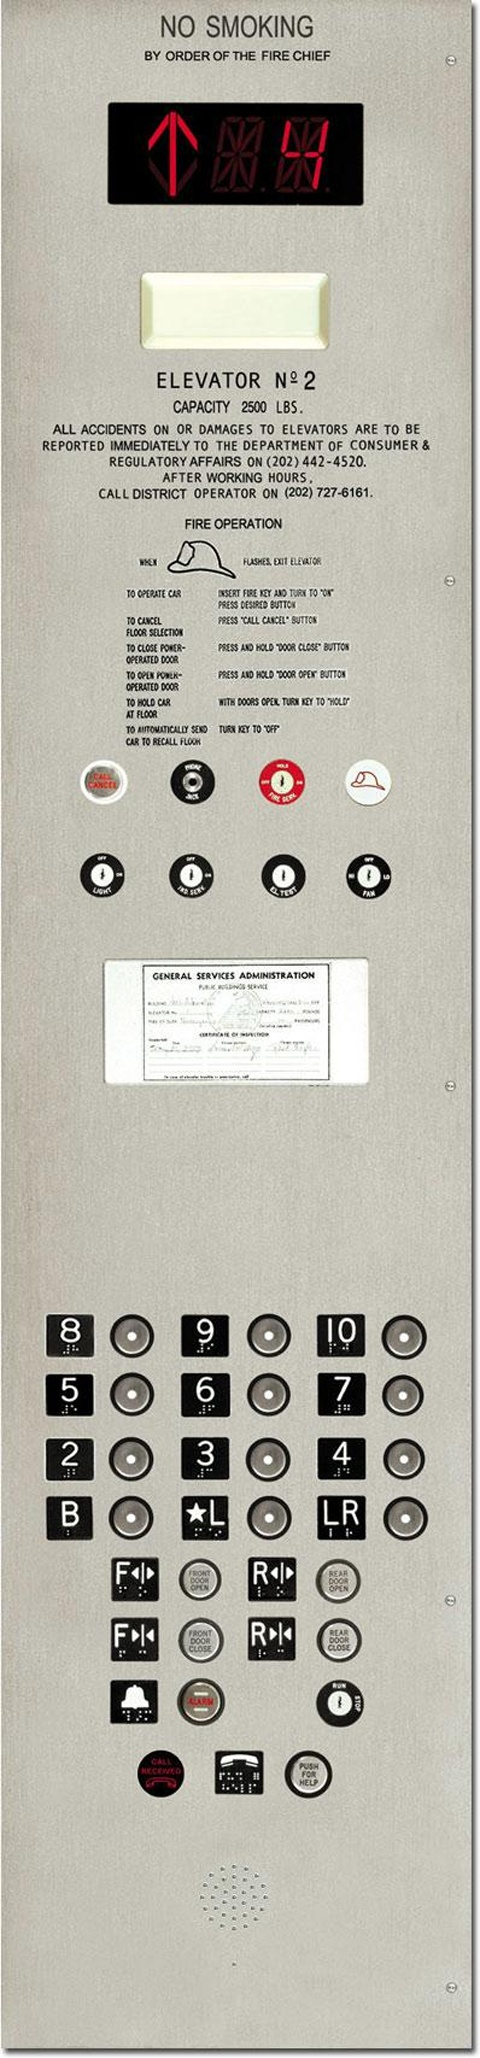10: (316, 1312, 366, 1358)
2: (45, 1437, 94, 1480)
3: (180, 1436, 231, 1480)
4: (316, 1437, 367, 1480)
5: (45, 1372, 96, 1417)
6: (180, 1372, 232, 1419)
7: (313, 1370, 367, 1417)
8: (45, 1312, 94, 1358)
9: (178, 1312, 230, 1358)
B: (45, 1495, 94, 1542)
L: (180, 1495, 230, 1542)
LR: (317, 1495, 369, 1542)
alarm: (108, 1677, 160, 1725)
blur: (169, 759, 216, 806)
call: (212, 1748, 265, 1795), (136, 1750, 186, 1797)
close: (247, 1614, 296, 1663), (110, 1617, 159, 1662)
empty: (140, 270, 332, 352), (108, 1312, 156, 1358), (108, 1436, 155, 1482), (247, 1494, 294, 1540), (109, 1372, 155, 1417), (108, 1494, 153, 1540), (247, 1311, 292, 1357), (382, 1495, 428, 1541), (247, 1437, 292, 1482), (382, 1315, 428, 1360), (245, 1372, 292, 1415), (382, 1374, 425, 1417), (382, 1437, 425, 1480)
hat: (345, 757, 393, 807)
keyhole: (315, 1677, 365, 1729), (79, 850, 127, 898), (344, 853, 392, 900), (258, 852, 306, 899), (258, 759, 306, 805), (169, 853, 214, 899)
led: (105, 101, 365, 207)
open: (247, 1557, 300, 1601), (110, 1557, 160, 1603)
text: (176, 1676, 226, 1727), (283, 1751, 334, 1799), (178, 1614, 226, 1664), (81, 760, 129, 806), (315, 1557, 362, 1603), (316, 1617, 362, 1662), (177, 1557, 222, 1601)
